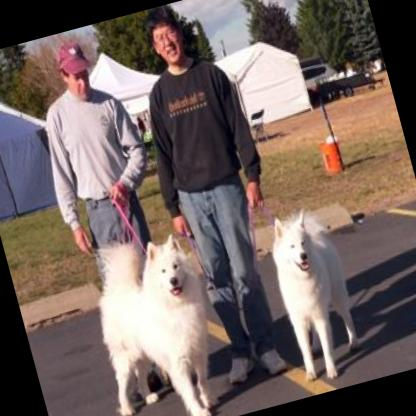Samoyed: (75, 224, 233, 416), (256, 191, 373, 387)
